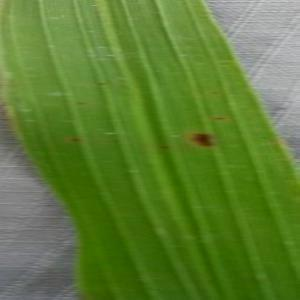0 BrownSpot: (186, 129, 218, 151), (67, 134, 85, 145), (93, 78, 111, 89), (207, 86, 221, 99), (212, 114, 229, 124), (155, 142, 170, 152), (73, 98, 86, 108)
